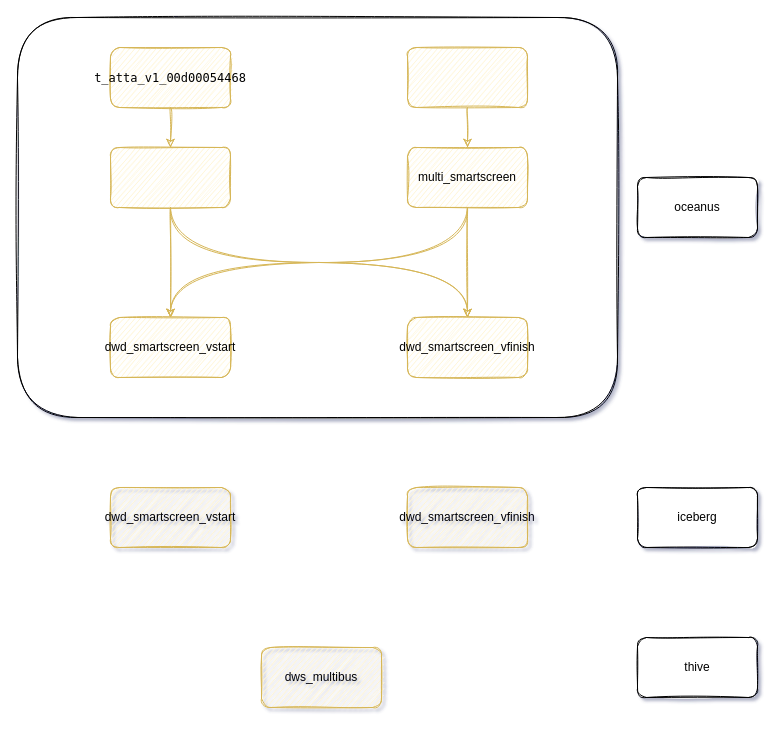
Some shapes in this 781 by 731 pixel diagram are drawn without their labels. The centre of each missing label's shape, as x and y in pixels:
"multi_ott" belongs at point (170, 177).
"t_atta_v1_07100058520" belongs at point (467, 77).
